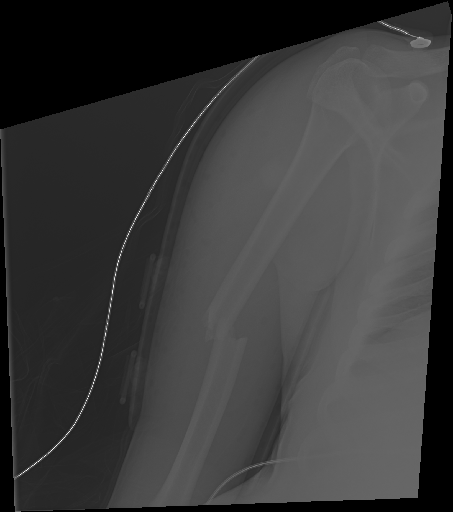fracture: (191, 282, 255, 367)
